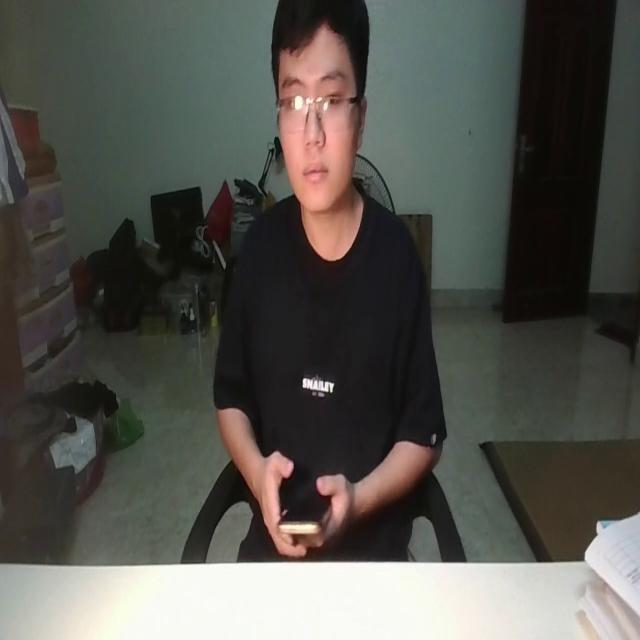phone: (276, 511, 323, 536)
student: (208, 0, 445, 553)
